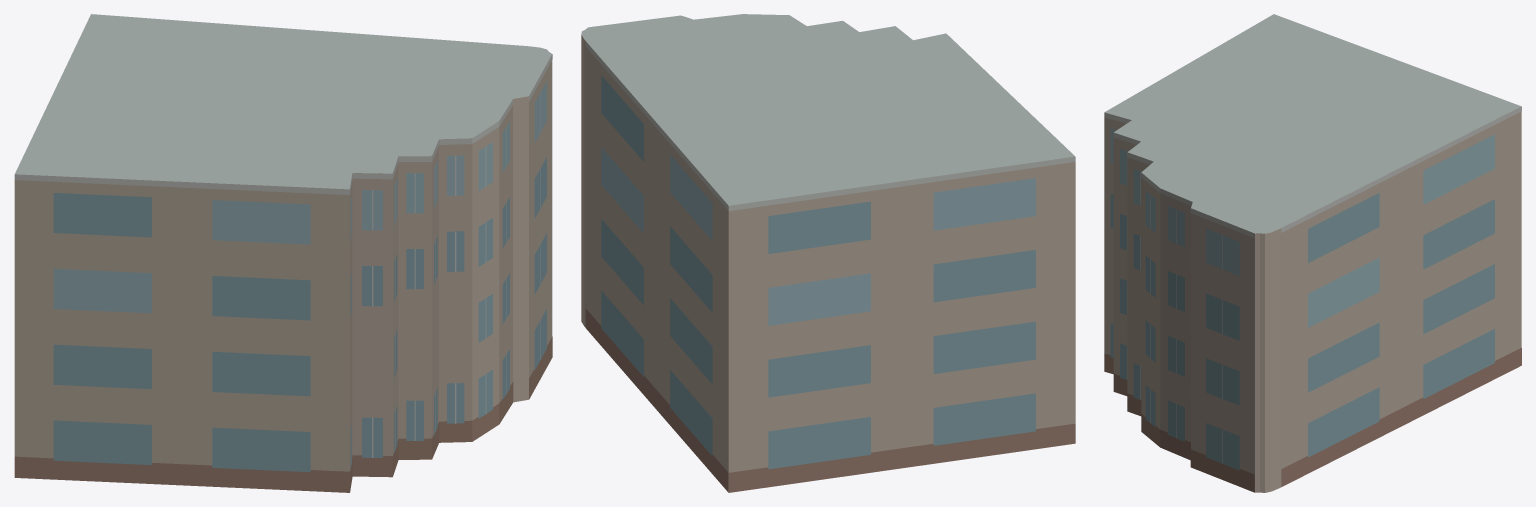
File: survey-upis-32771973.glb
3 renders of one model, left to right at view 1: azimuth 30°, elevation 25°; view 2: azimuth 150°, elevation 25°; view 3: azimuth 270°, elevation 25°, orthographic. The views are drawn at different scales.
Visible parts, largest first — view 1: survey-upis-32771973.tmp; view 2: survey-upis-32771973.tmp; view 3: survey-upis-32771973.tmp.
Part boxes in pixels (bbox=[...]): survey-upis-32771973.tmp: bbox=[14, 14, 552, 492]; survey-upis-32771973.tmp: bbox=[581, 14, 1075, 492]; survey-upis-32771973.tmp: bbox=[1104, 14, 1521, 492].
Bounding box in the file's own units: 23.55 × 12.95 × 18.91.
